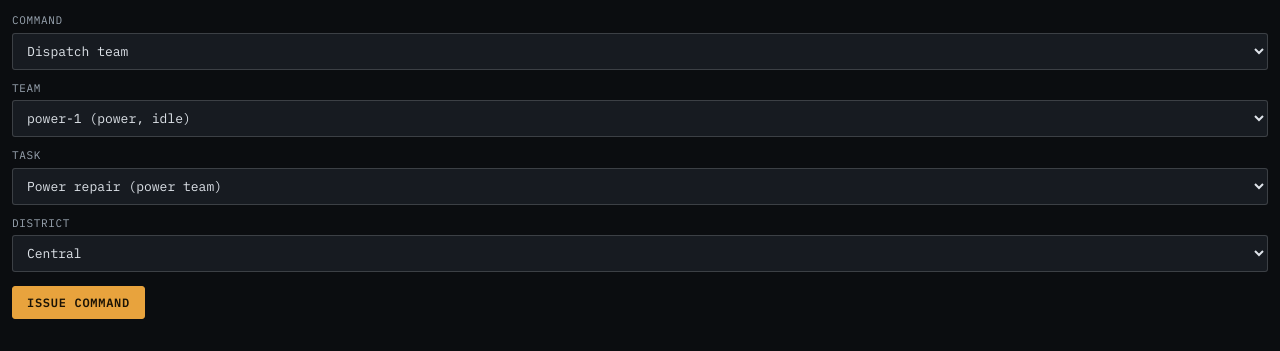
it: CommandComposer › switches fields when the command changes to ISSUE_PUBLIC_ADVISORY
The image size is (1280, 351).
Select "Issue public advisory" in the dropdown labelled "Command": coordinates (640, 51) top-left (12, 32), bottom-right (1268, 70)
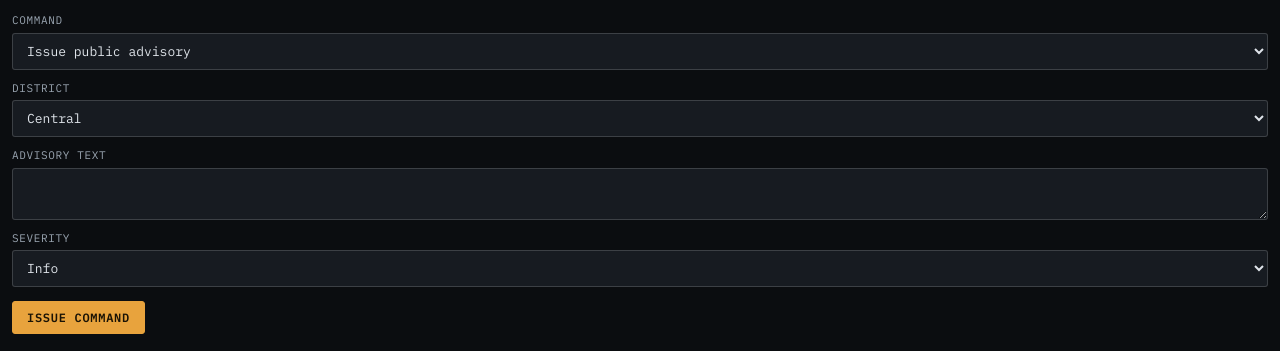
Expected: the text "Advisory text" is shown, top-left (12, 147), bottom-right (1268, 220)
Expected: the text "Severity" is shown, top-left (12, 230), bottom-right (1268, 287)
Expected: the text "Task" is gone
